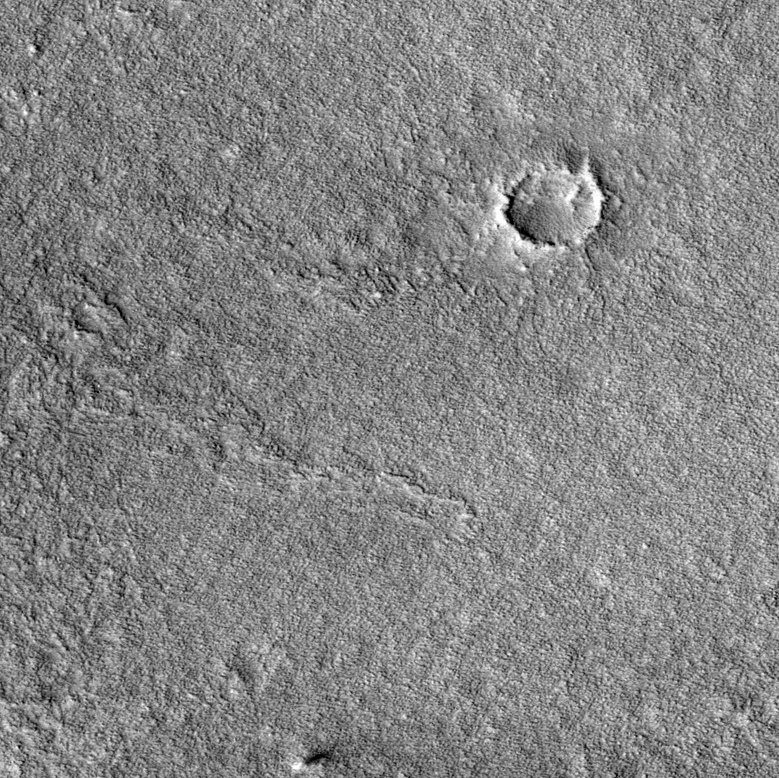dust_devil: (289, 749, 330, 772)
